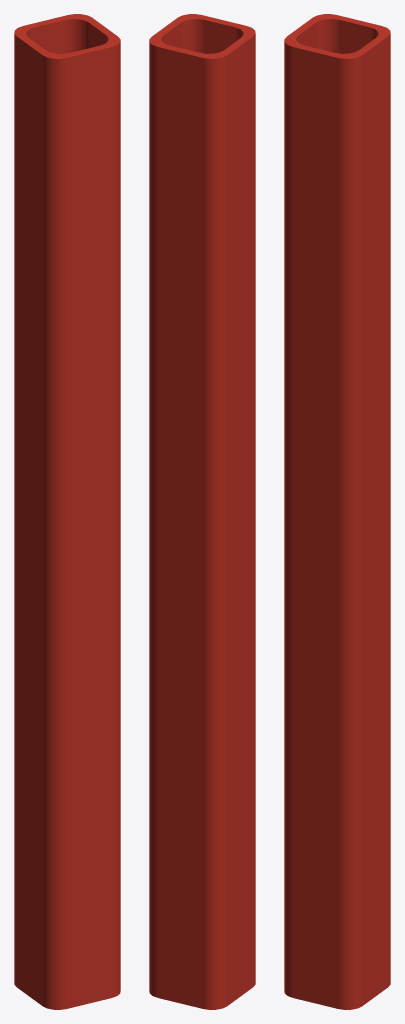
File: body1_visual.obj
3 views of the same model, side by side, from view 1: azimuth 30°, elevation 25°; view 2: azimuth 150°, elevation 25°; view 3: azimuth 330°, elevation 25° (orthographic).
Parts seen in each view (by area): view 1: Body1; view 2: Body1; view 3: Body1.
Part boxes in pixels (x1,y1,x2,y2): Body1: (14, 14, 120, 1009); Body1: (149, 14, 255, 1009); Body1: (284, 14, 390, 1009).
Bounding box in the file's own units: 2.5 × 30 × 2.5.
